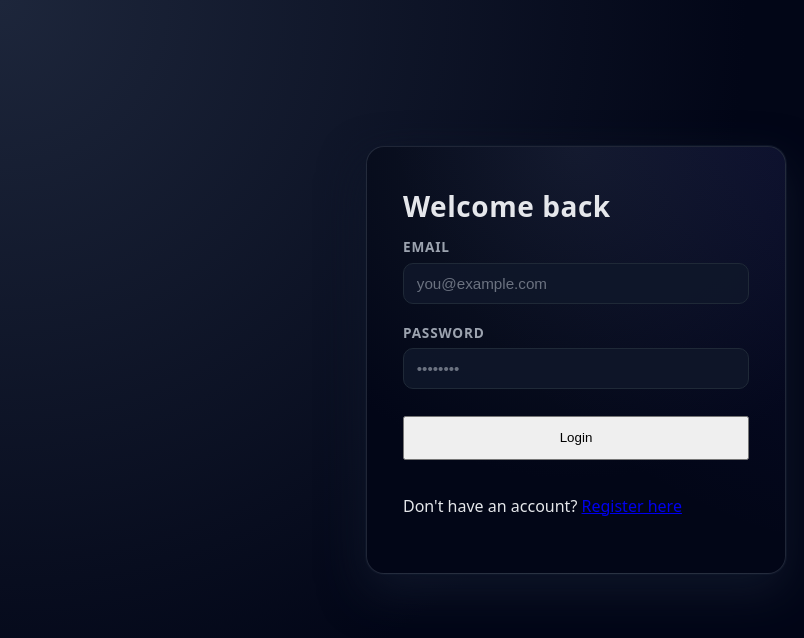
AuthPage › shows validation error when email is empty
Type "password123" into the password field with test id "input-password" at (576, 369), box [403,348,749,389]
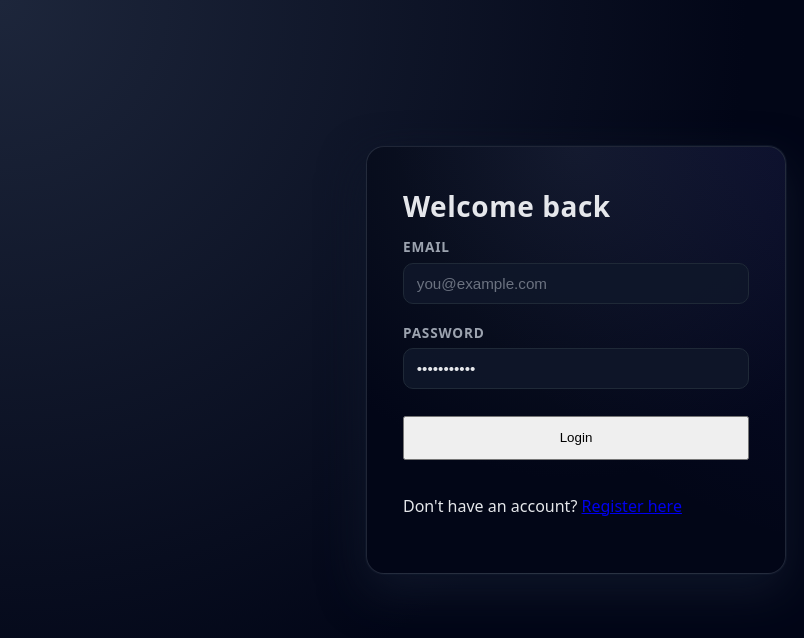
Click the button with test id "button-login" at (576, 438), box [403,416,749,460]
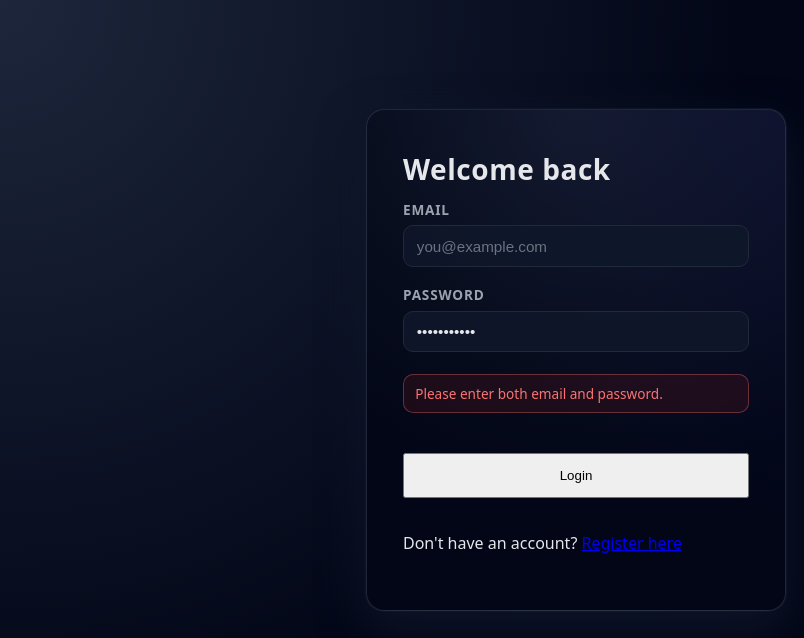
expect the text "Please enter both email and password." is shown: met, box [403,374,749,413]
